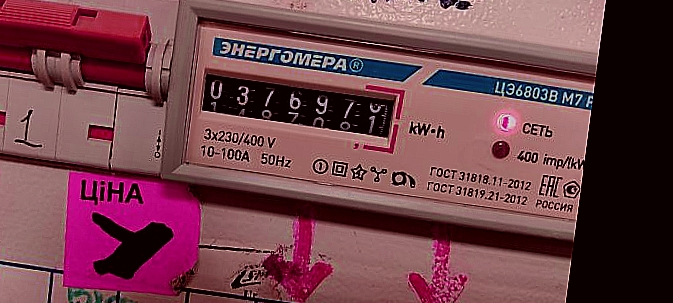0: (206, 76, 224, 100)
1: (364, 112, 375, 135)
3: (233, 82, 249, 105)
6: (285, 85, 303, 110)
7: (259, 83, 276, 108), (339, 93, 356, 118)
9: (312, 91, 329, 115)
screen: (186, 57, 407, 156)
